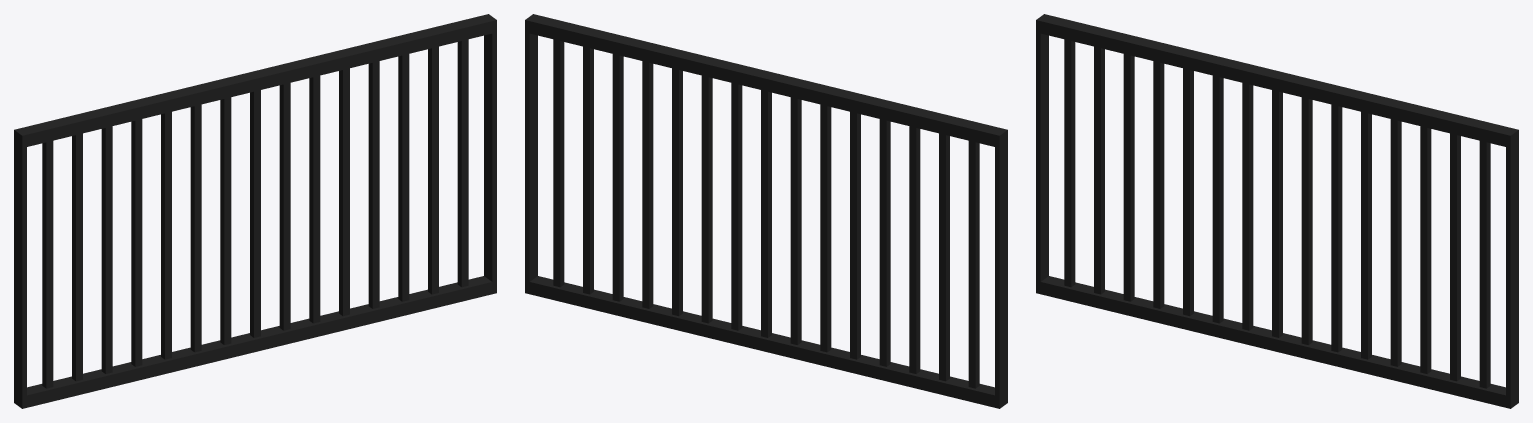
Rendered from OA_Railing_2m.fbx.
3 views of the same model, side by side, from view 1: azimuth 30°, elevation 25°; view 2: azimuth 150°, elevation 25°; view 3: azimuth 330°, elevation 25° (orthographic).
Visible parts, largest first — view 1: OA_Railing_2m; view 2: OA_Railing_2m; view 3: OA_Railing_2m.
Part boxes in pixels (x1,y1,x2,y2): OA_Railing_2m: (14, 14, 496, 408); OA_Railing_2m: (525, 14, 1007, 408); OA_Railing_2m: (1036, 14, 1518, 408).
Bounding box in the file's own units: 2 × 1.1 × 0.06.
Materials: 1 (1 with a texture image).
